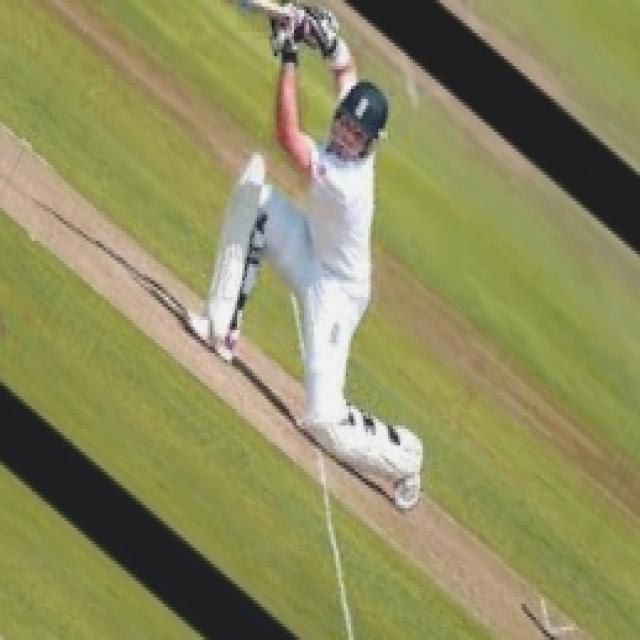bat: (217, 0, 302, 26)
